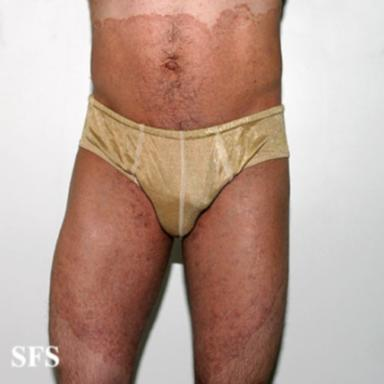Tinea-Corporis: (53, 150, 170, 374), (91, 4, 281, 130), (184, 160, 288, 384)
